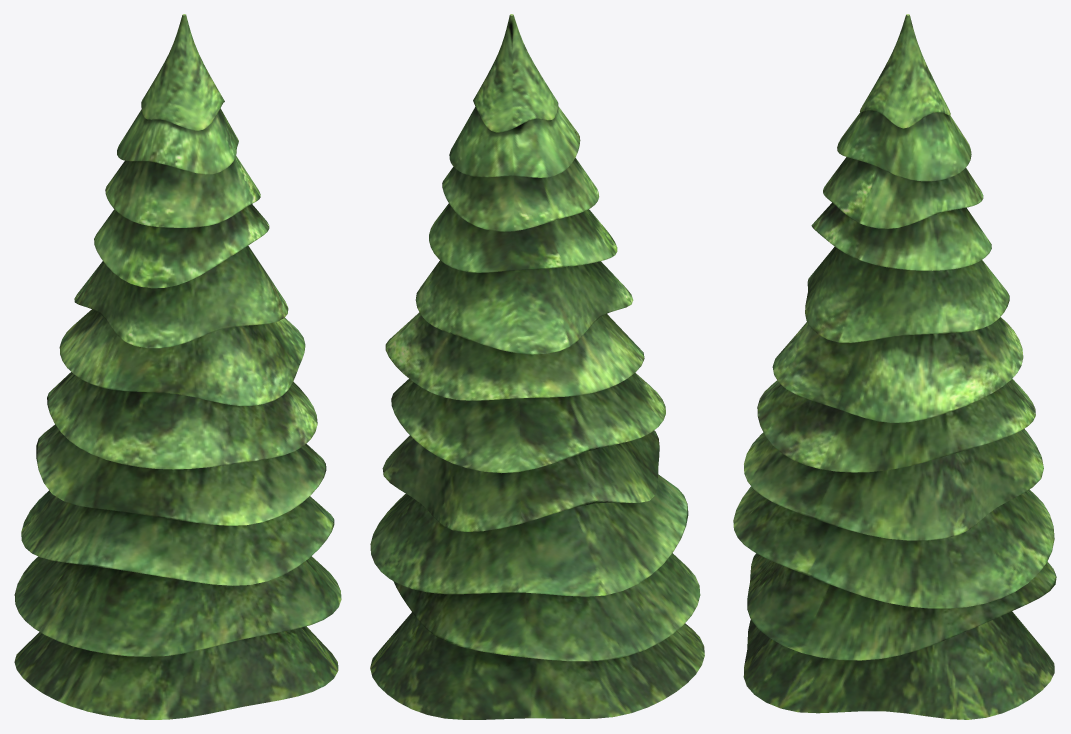
File: pine.obj
3 views of the same model, side by side, from view 1: azimuth 30°, elevation 25°; view 2: azimuth 150°, elevation 25°; view 3: azimuth 270°, elevation 25° (orthographic). The views are drawn at different scales.
Visible parts, largest first — view 1: 10447_Pine_Tree_v1_L3b; view 2: 10447_Pine_Tree_v1_L3b; view 3: 10447_Pine_Tree_v1_L3b.
Part boxes in pixels (x1=…): 10447_Pine_Tree_v1_L3b: x1=14, y1=14, x2=341, y2=719; 10447_Pine_Tree_v1_L3b: x1=370, y1=14, x2=704, y2=719; 10447_Pine_Tree_v1_L3b: x1=733, y1=14, x2=1056, y2=719.
Bounding box in the file's own units: 5.2 × 11.96 × 5.09.
Materials: 1 (1 with a texture image).
